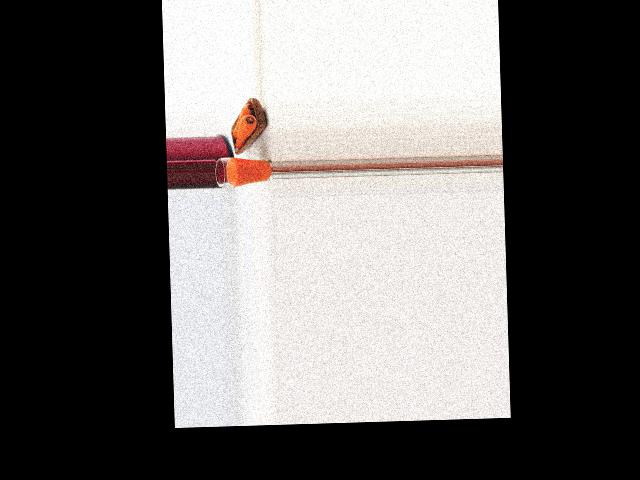carrot: (232, 102, 255, 134)
